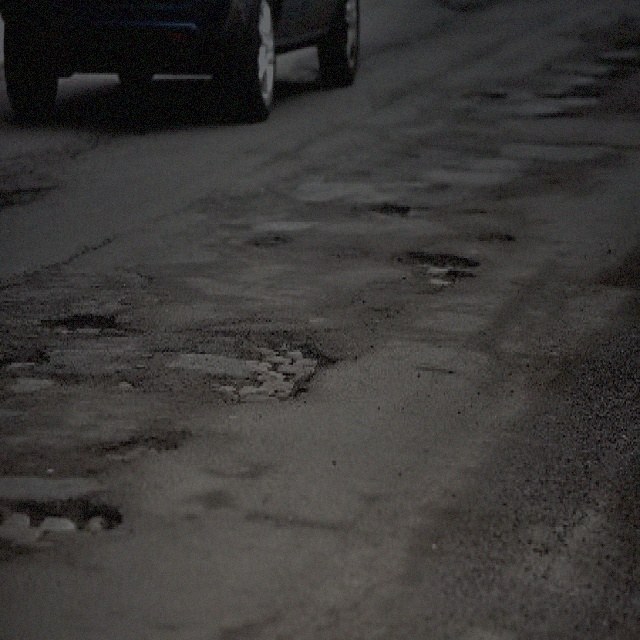pothole: (212, 335, 337, 410), (0, 482, 127, 546), (391, 248, 479, 294), (0, 348, 60, 397), (45, 307, 124, 337), (0, 180, 54, 213), (364, 200, 413, 218)
